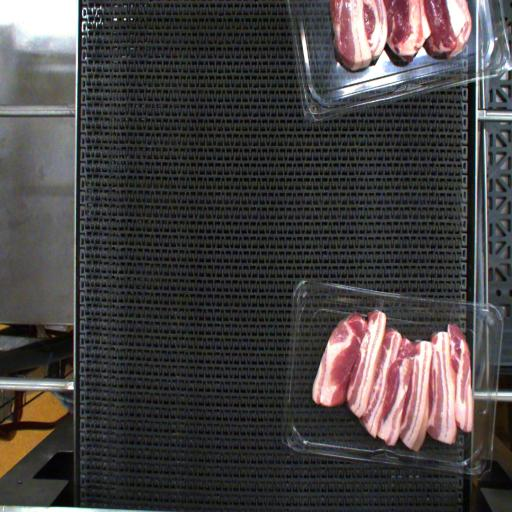packaging-error: (374, 295, 384, 313)
